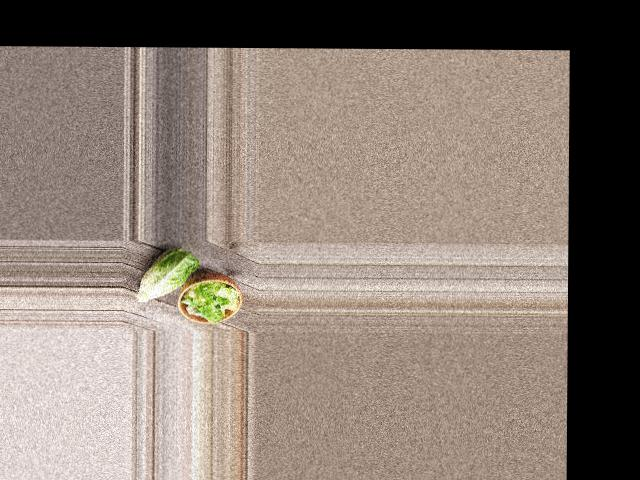lettuce: (138, 246, 198, 303)
